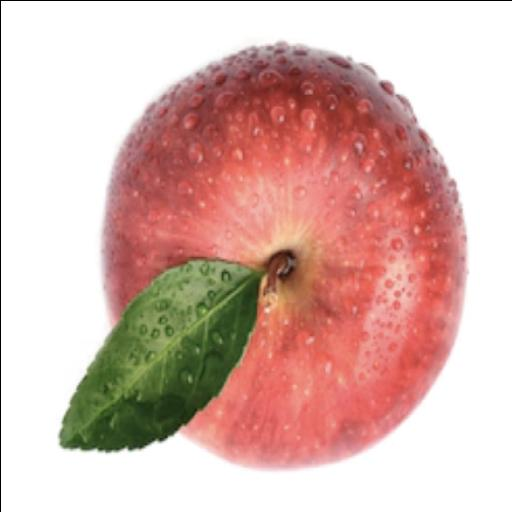apple: (103, 44, 465, 467)
